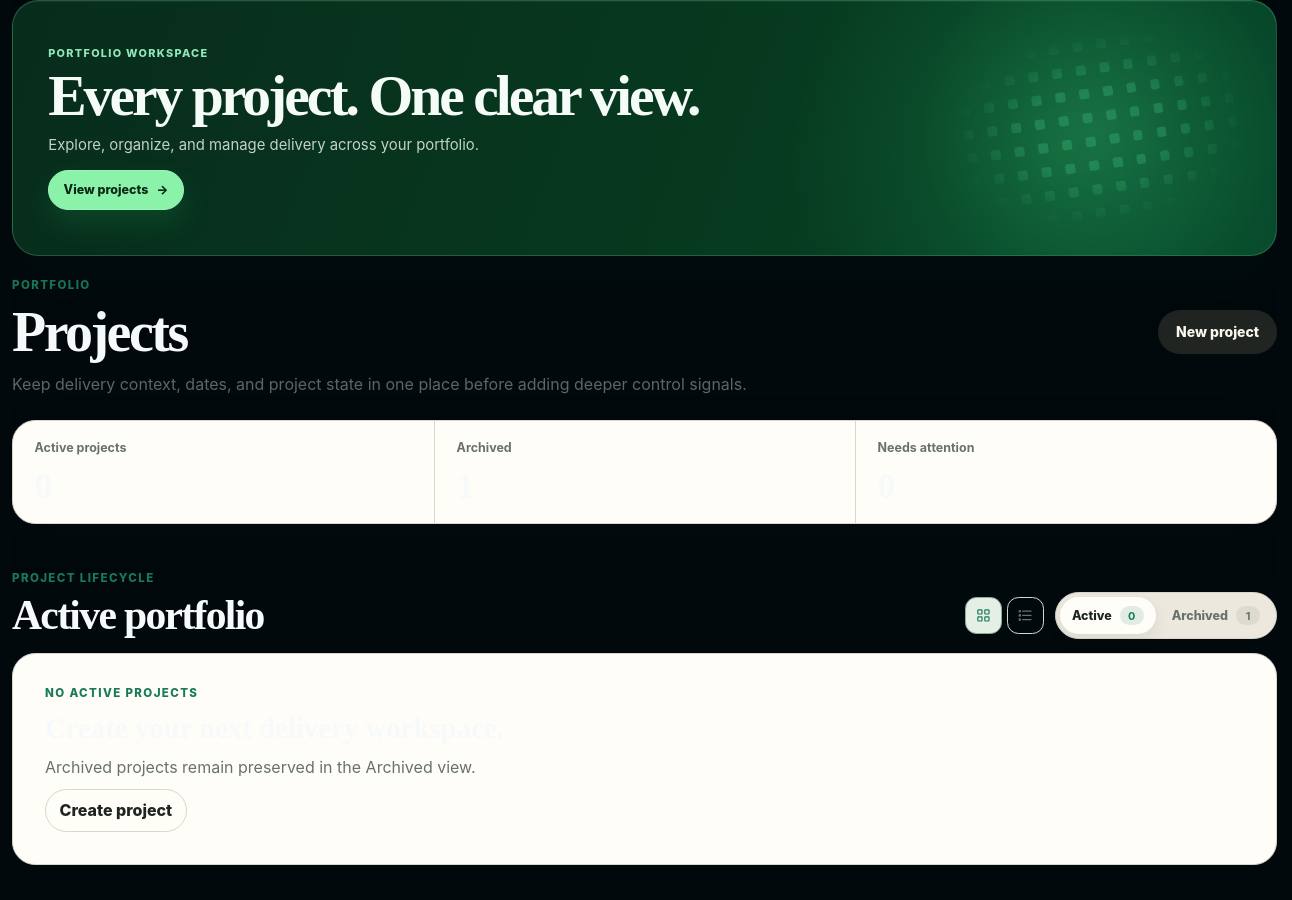
Test case: ProjectsPage view modes › shows historical archive metadata without operational health
The image size is (1292, 900).
What coordinates should you click on to do the following:
click the tab "Archived 1"
I would click on:
 (1216, 616)
Its box is [1160,597,1272,634].
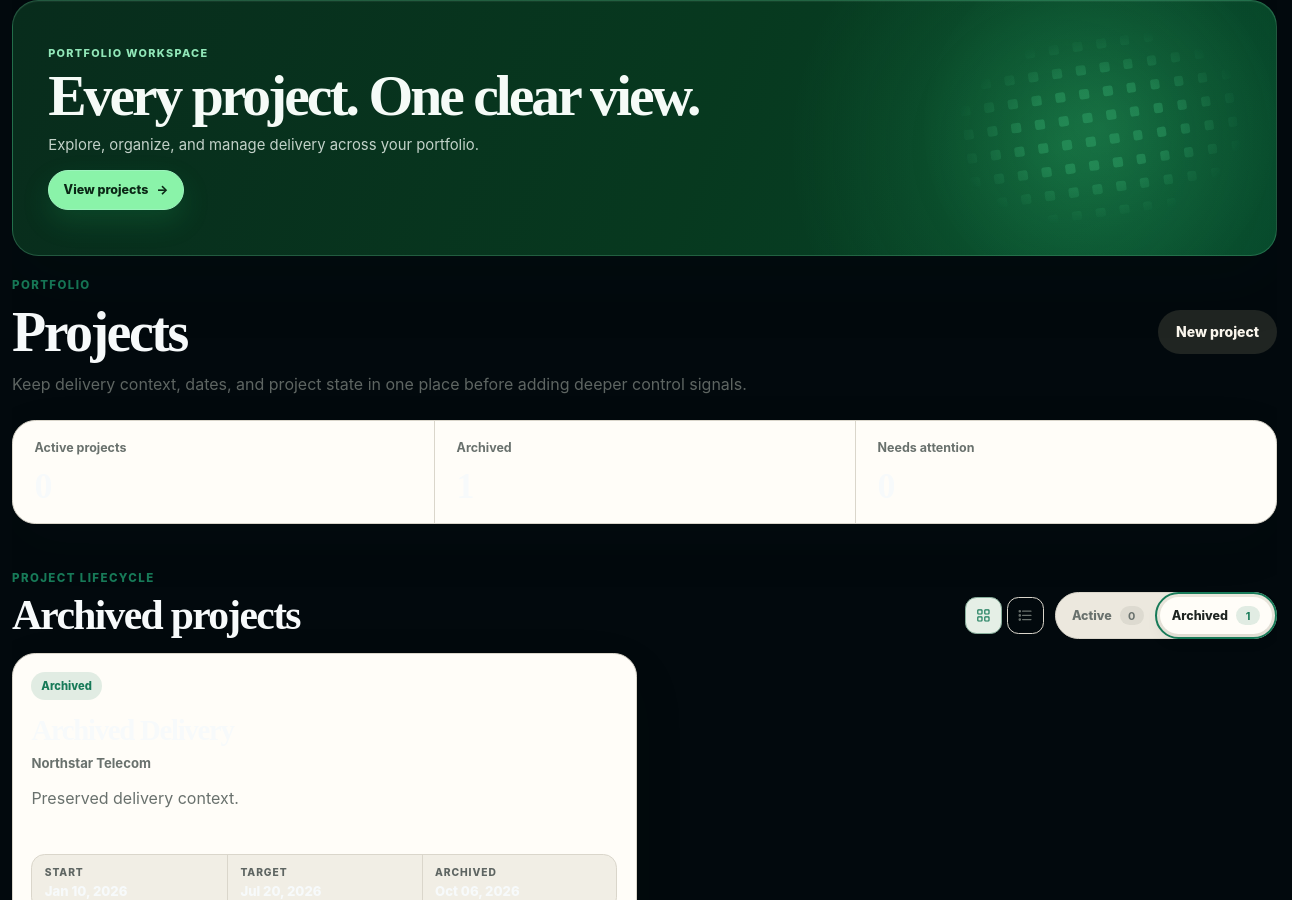
Expected: the text "Archived" is shown 2 times, [31,672,102,700]; [435,866,497,878]
